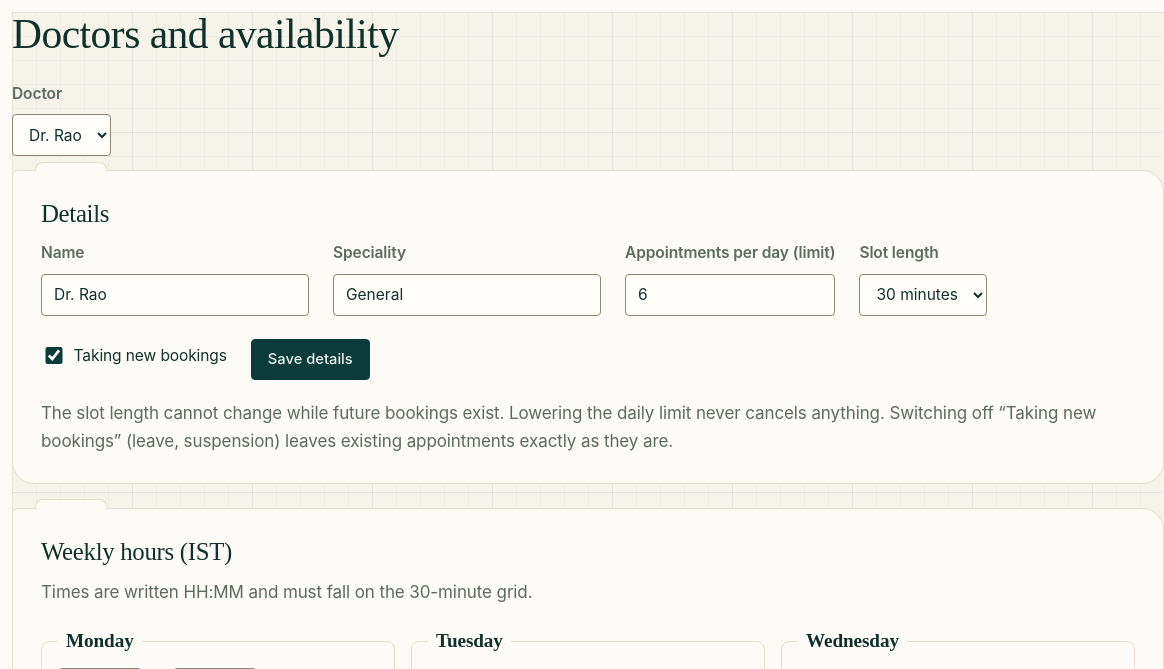
Test: doctors and availability › explains why the slot length cannot change while bookings exist
Select "15 minutes" in the dropdown labelled "Slot length": (923, 295) [859, 274, 987, 316]
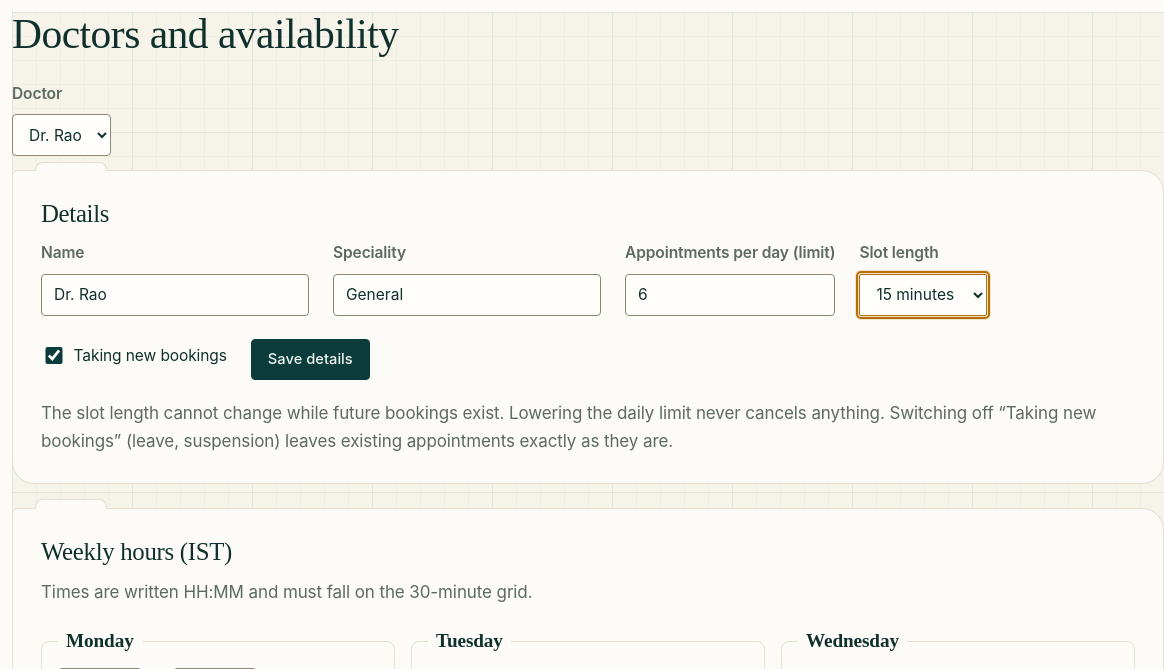
Click the button "Save details": click(310, 360) [251, 339, 370, 380]
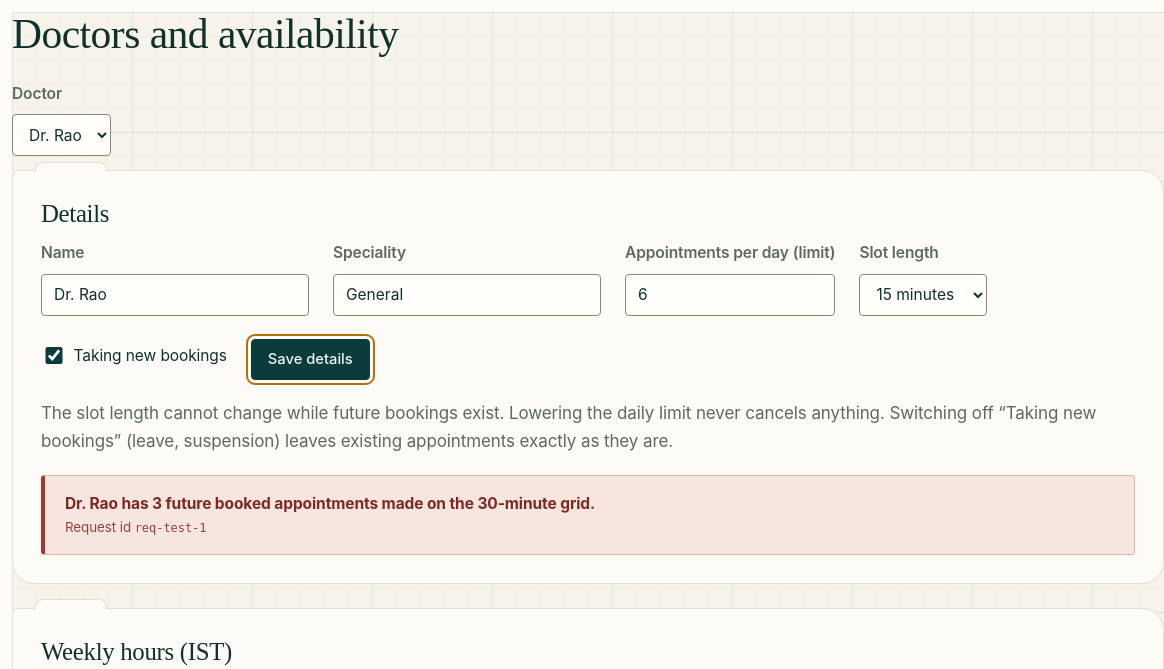
Check: the message shows "3 future booked appointments", box [65, 494, 595, 513]
